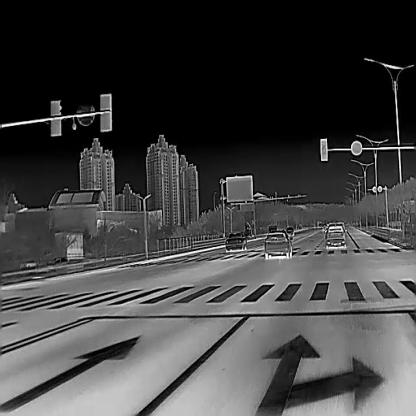car: (263, 229, 292, 258), (325, 223, 346, 249), (224, 232, 247, 250), (285, 226, 293, 235)
